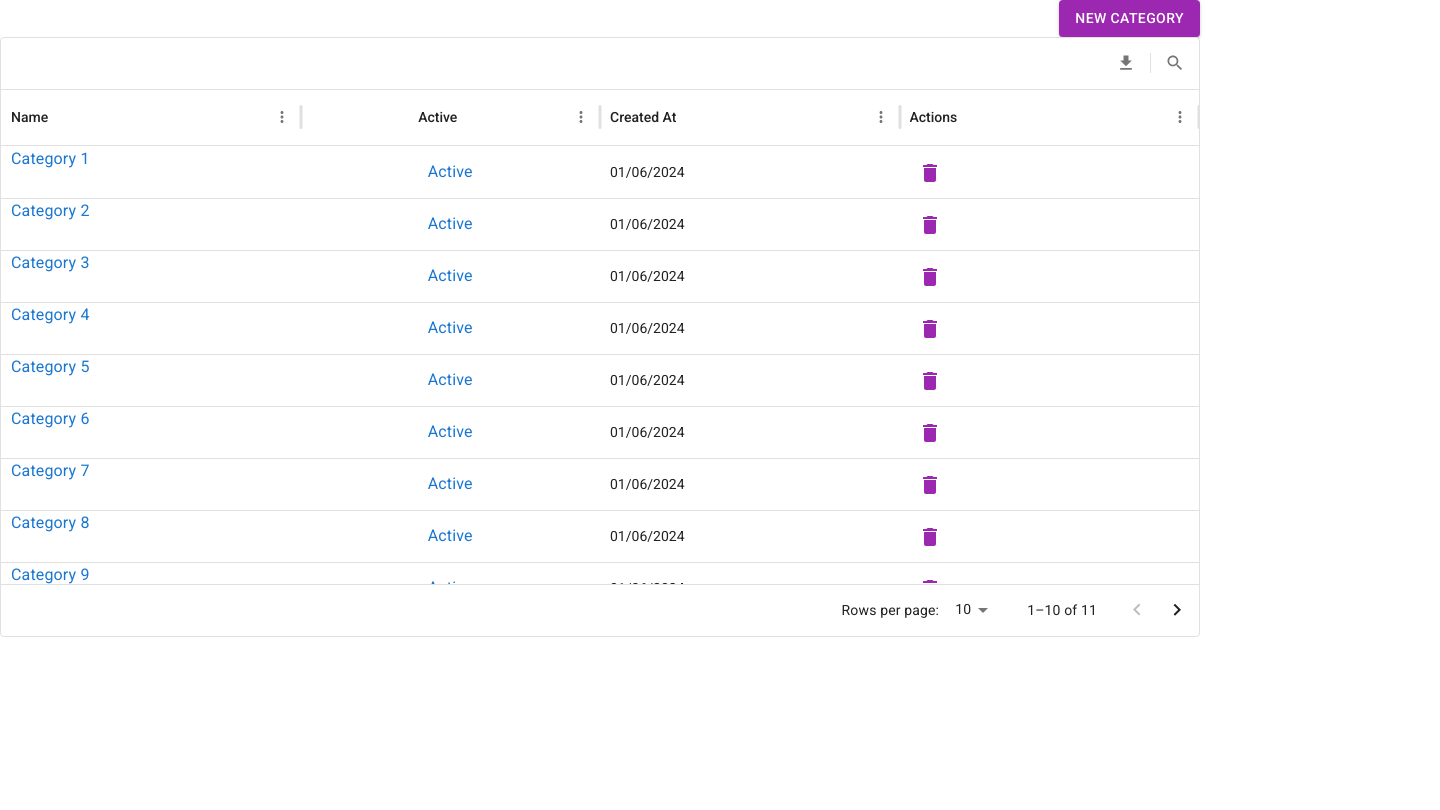
Test: ListCategory › should handle Delete Category success
This screenshot has width=1440, height=810.
Expected: the text "Category 2" is shown, [11,200,90,220]
Click the button with test id "delete-button" in the row of "Category 1" at (930, 173), box [910,153,950,193]
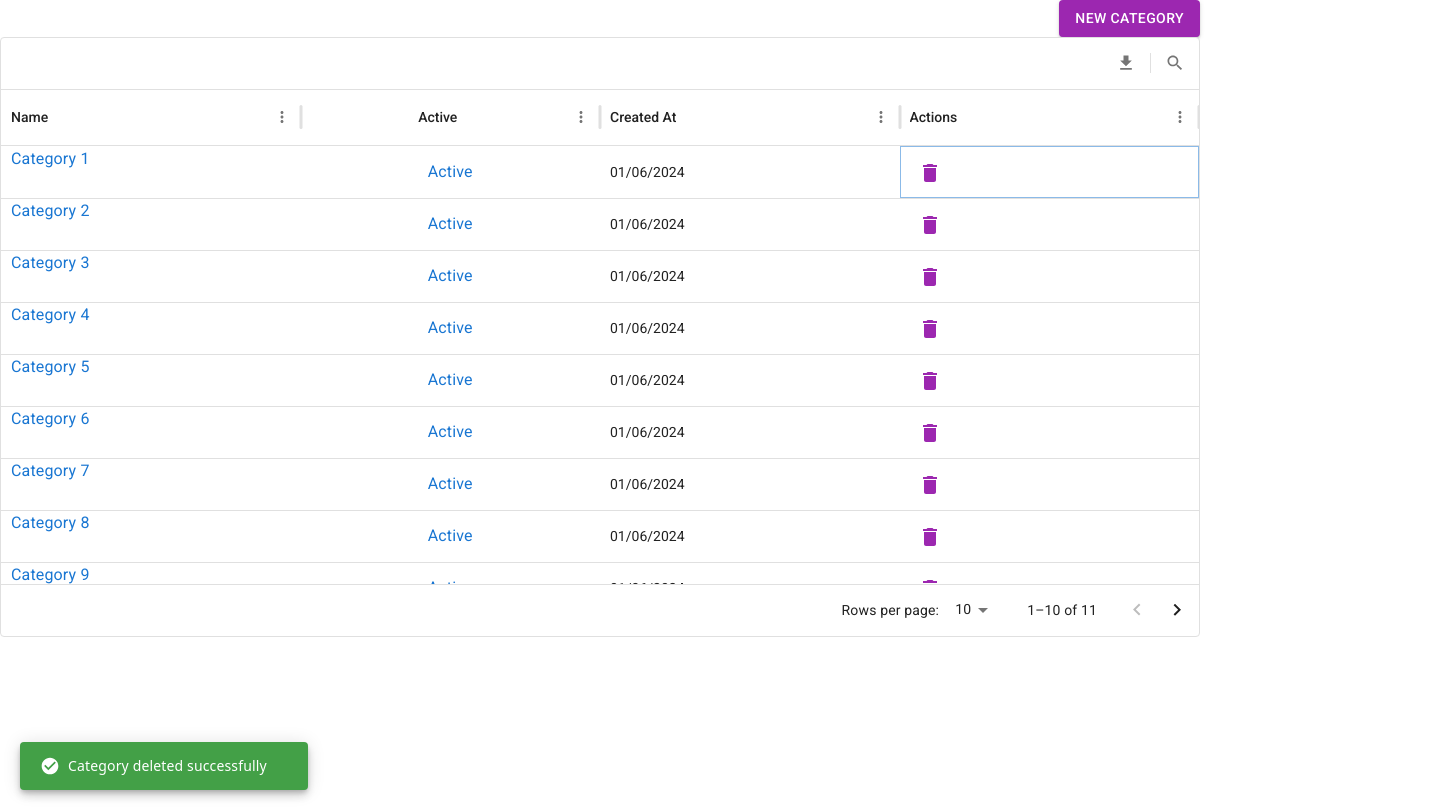
Result: the text "Category deleted successfully" is shown at [40,756,267,776]
